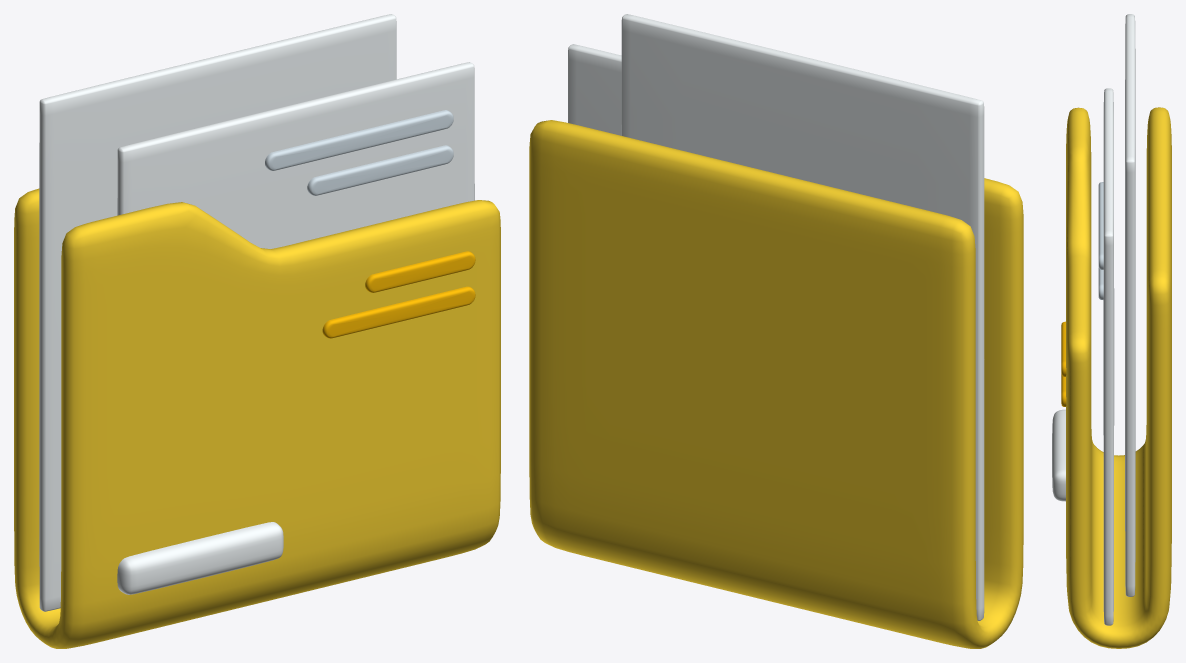
Rendered from folder.glb.
3 renders of one model, left to right at view 1: azimuth 30°, elevation 25°; view 2: azimuth 150°, elevation 25°; view 3: azimuth 270°, elevation 25°, orthographic. The views are drawn at different scales.
Parts seen in each view (by area): view 1: Plane.060, Plane.058, Plane.059, Cube.003, Cylinder.061, Cylinder.059, Cylinder.060, Cylinder.058; view 2: Plane.060, Plane.058, Plane.059; view 3: Plane.060, Plane.058, Plane.059, Cube.003, Cylinder.061, Cylinder.058.
Boxes of the visible parts, bbox=[...] form: Plane.060: bbox=[14, 188, 500, 648]; Plane.058: bbox=[39, 14, 396, 611]; Plane.059: bbox=[117, 62, 474, 248]; Cube.003: bbox=[117, 522, 283, 594]; Cylinder.061: bbox=[265, 110, 453, 170]; Cylinder.059: bbox=[322, 286, 475, 338]; Cylinder.060: bbox=[307, 145, 453, 195]; Cylinder.058: bbox=[365, 251, 475, 292]; Plane.060: bbox=[529, 120, 1023, 648]; Plane.058: bbox=[621, 14, 984, 620]; Plane.059: bbox=[568, 44, 621, 135]; Plane.060: bbox=[1066, 107, 1171, 648]; Plane.058: bbox=[1125, 14, 1135, 596]; Plane.059: bbox=[1103, 88, 1114, 625]; Cube.003: bbox=[1052, 409, 1065, 501]; Cylinder.061: bbox=[1098, 182, 1103, 269]; Cylinder.058: bbox=[1061, 321, 1066, 376].
Size of the model in its own units: 3.99 by 4.74 by 1.11.
